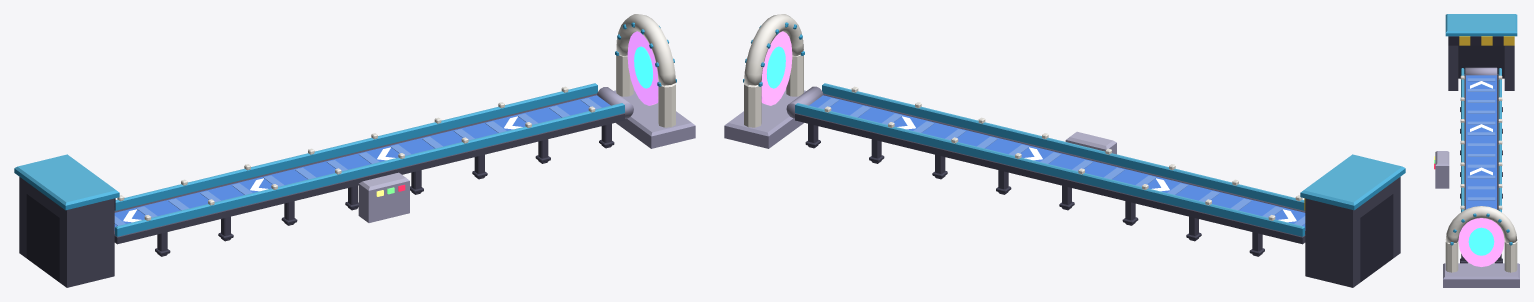
Rendered from Conveyor_7.glb.
The picture shows the model from 3 angles, left to right: view 1: azimuth 30°, elevation 25°; view 2: azimuth 150°, elevation 25°; view 3: azimuth 270°, elevation 25°; orthographic projection. The views are drawn at different scales.
Parts seen in each view (by area): view 1: Conveyor_7, Conveyor_7_Glow_portal, Conveyor_7_Glow_acc7, Conveyor_7_Glow_belt; view 2: Conveyor_7, Conveyor_7_Glow_portal, Conveyor_7_Glow_acc7, Conveyor_7_Glow_belt; view 3: Conveyor_7, Conveyor_7_Glow_portal, Conveyor_7_Glow_acc7, Conveyor_7_Glow_belt.
Boxes of the visible parts, x1,y1,x2,y2 form: Conveyor_7: (14, 14, 695, 287); Conveyor_7_Glow_portal: (627, 31, 658, 105); Conveyor_7_Glow_acc7: (634, 46, 653, 88); Conveyor_7_Glow_belt: (123, 116, 522, 222); Conveyor_7: (724, 14, 1405, 287); Conveyor_7_Glow_portal: (761, 31, 792, 105); Conveyor_7_Glow_acc7: (766, 46, 785, 88); Conveyor_7_Glow_belt: (897, 116, 1296, 222); Conveyor_7: (1435, 14, 1519, 287); Conveyor_7_Glow_portal: (1458, 218, 1504, 266); Conveyor_7_Glow_acc7: (1468, 227, 1494, 255); Conveyor_7_Glow_belt: (1470, 81, 1492, 175).
Bounding box in the file's own units: 79.2 × 13 × 13.4.
Materials: 7 (1 with a texture image).
